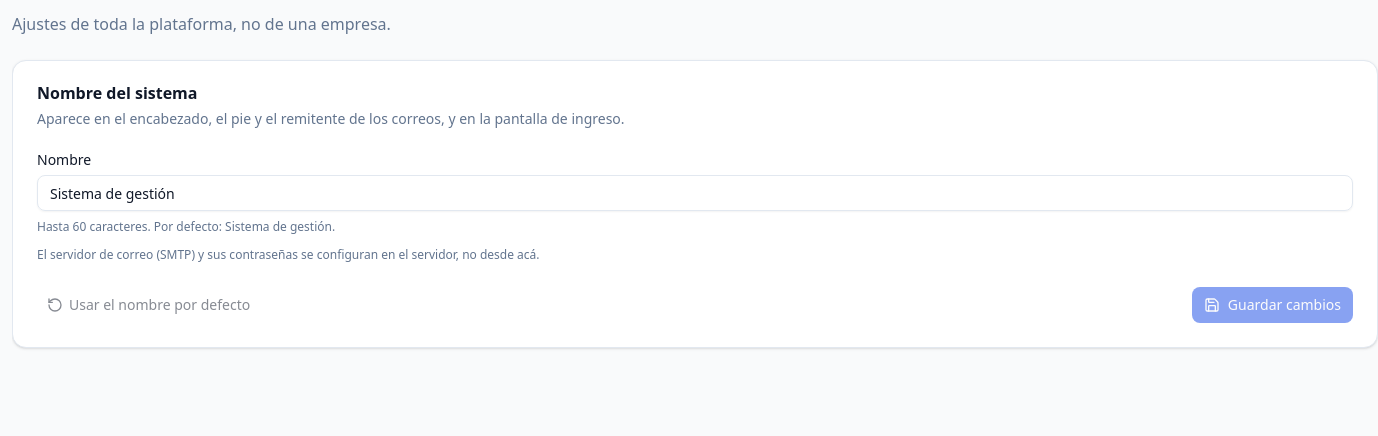
Sistema › muestra el motivo si no se puede guardar
The width and height of the screenshot is (1378, 436).
Step 1. Replace the text in the field labelled "Nombre" with "Otro" → (695, 193), box [37, 175, 1353, 211]
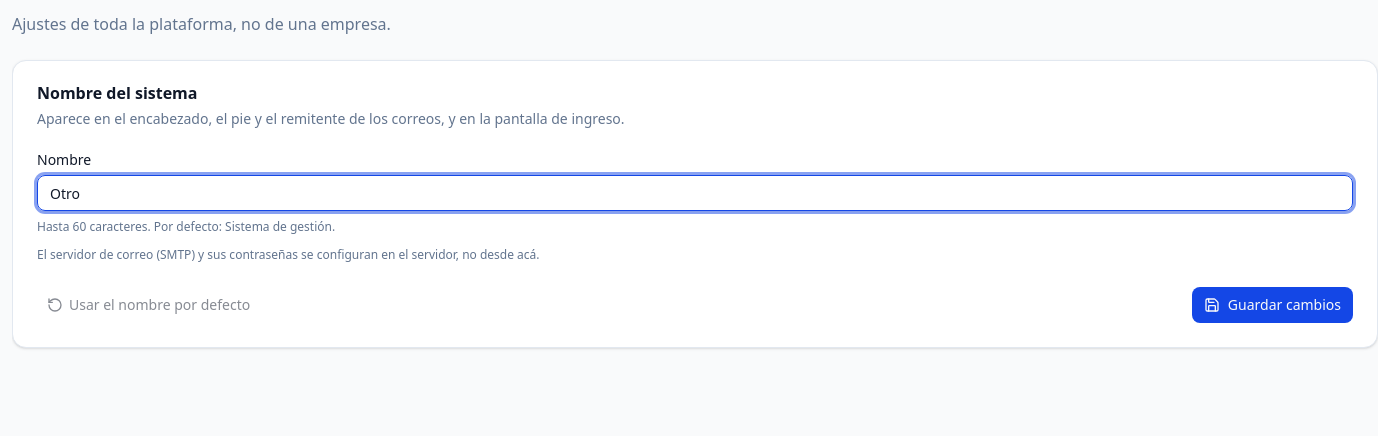
Step 2. Click the button "Guardar cambios" → (1272, 305), box [1192, 287, 1353, 323]
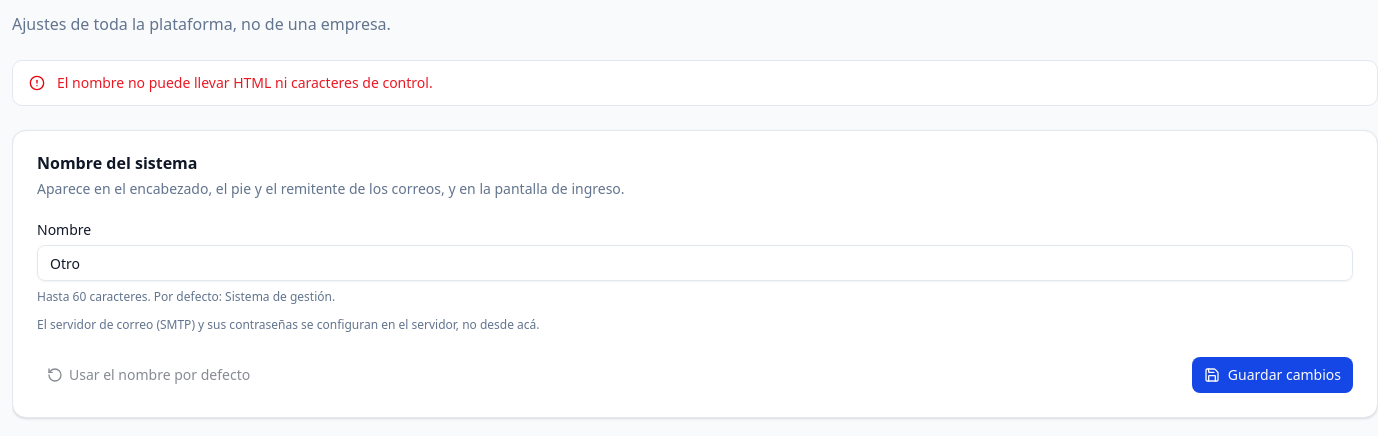
Expected: the text "El nombre no puede llevar HTML ni caracteres de control." is shown, [57, 73, 433, 92]
